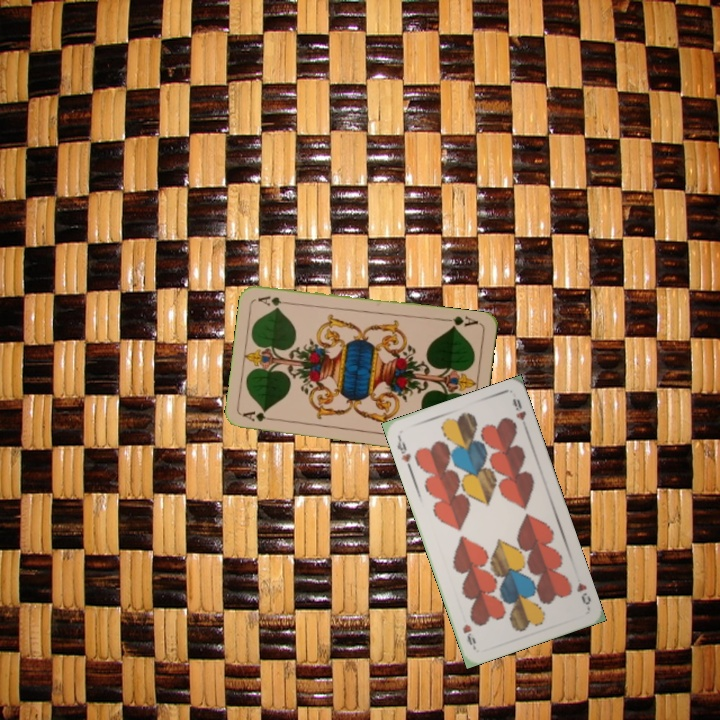GA: (441, 312, 480, 331), (239, 407, 279, 424)
H9: (393, 432, 414, 465), (573, 579, 594, 607)
